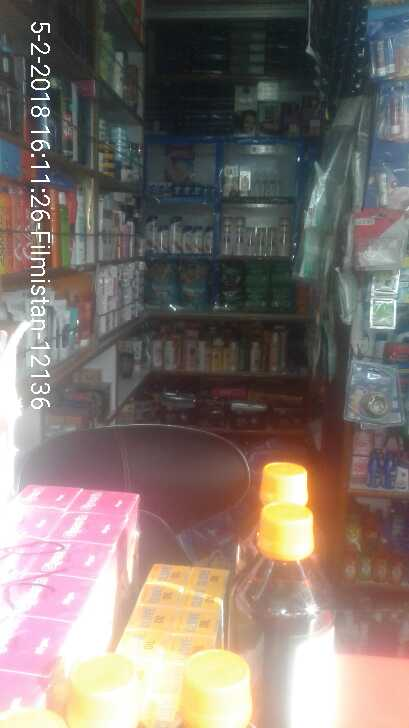vicks: (146, 174, 222, 200)
